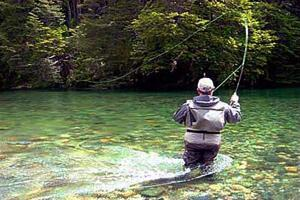person: (172, 77, 242, 172)
